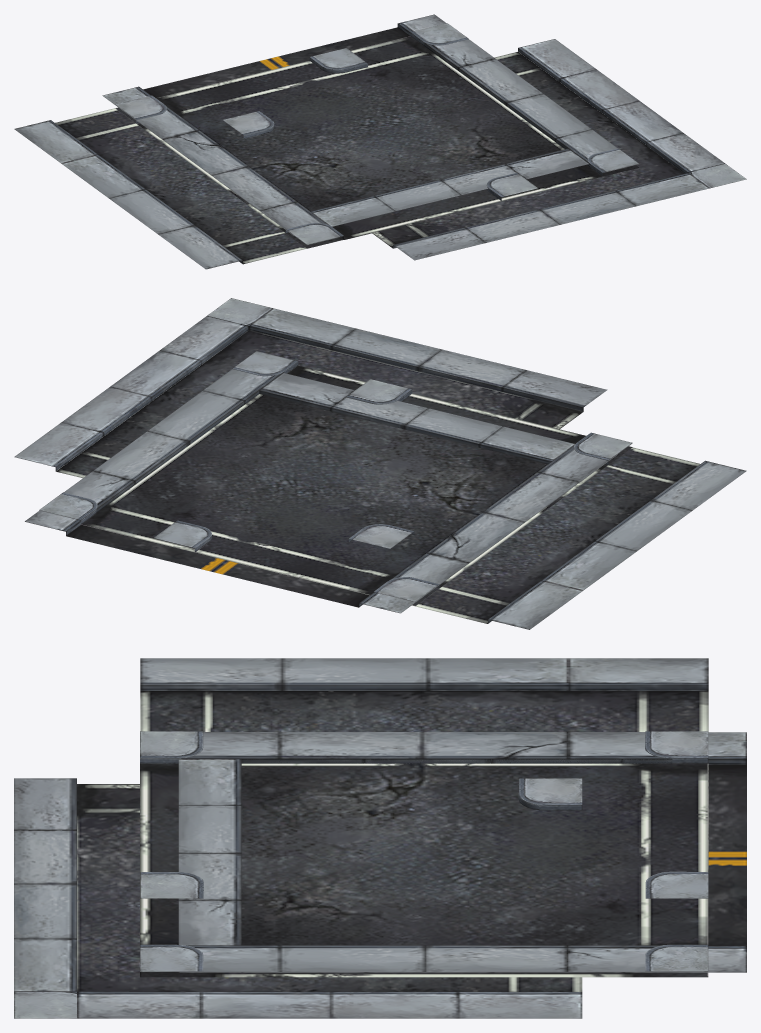
File: RoadTiles.fbx
The picture shows the model from 3 angles, top to bottom: view 1: azimuth 30°, elevation 25°; view 2: azimuth 150°, elevation 25°; view 3: azimuth 270°, elevation 25°; orthographic projection. The views are drawn at different scales.
Visible parts, largest first — view 1: BD_ConcreteBlock1.005, BD_ConcreteBlock1.003, BD_ConcreteBlock1.002, BD_ConcreteBlock1.004, BD_ConcreteBlock1.001; view 2: BD_ConcreteBlock1.005, BD_ConcreteBlock1.003, BD_ConcreteBlock1.002, BD_ConcreteBlock1.004, BD_ConcreteBlock1.001; view 3: BD_ConcreteBlock1.005, BD_ConcreteBlock1.003, BD_ConcreteBlock1.002, BD_ConcreteBlock1.004, BD_ConcreteBlock1.001.
Part boxes in pixels (x1,y1,x2,y2): BD_ConcreteBlock1.005: (115,23,639,248); BD_ConcreteBlock1.003: (223,39,746,260); BD_ConcreteBlock1.002: (14,48,537,269); BD_ConcreteBlock1.004: (116,39,639,245); BD_ConcreteBlock1.001: (102,14,588,235); BD_ConcreteBlock1.005: (39,351,632,606); BD_ConcreteBlock1.003: (14,298,607,548); BD_ConcreteBlock1.002: (153,379,746,629); BD_ConcreteBlock1.004: (39,369,632,602); BD_ConcreteBlock1.001: (25,373,617,613); BD_ConcreteBlock1.005: (140,731,708,977); BD_ConcreteBlock1.003: (14,778,582,1018); BD_ConcreteBlock1.002: (140,658,708,903); BD_ConcreteBlock1.004: (140,732,708,971); BD_ConcreteBlock1.001: (178,732,746,972).
Bounding box in the file's own units: 26.97 × 0.2381 × 23.22.
1 material, 1 textured.
